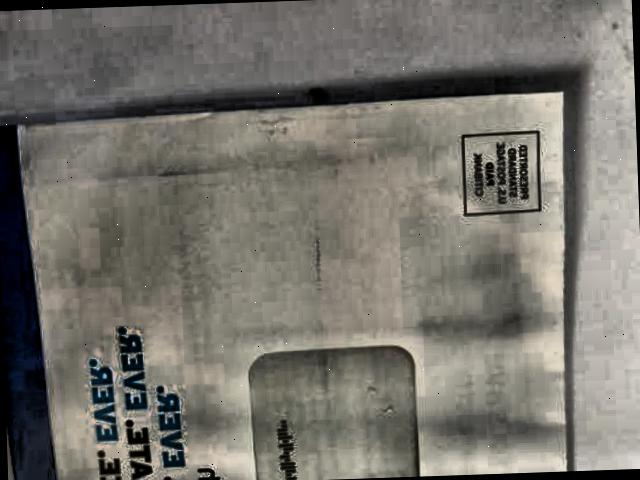Paper: (4, 94, 612, 480)
